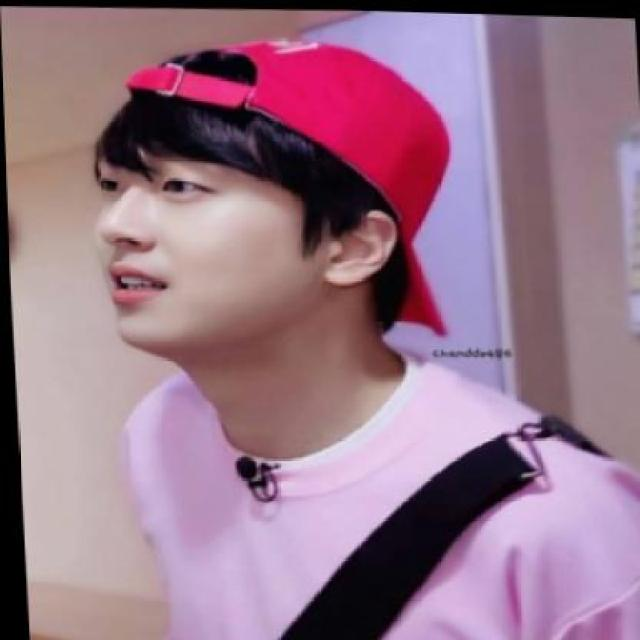hat: (118, 26, 458, 240)
